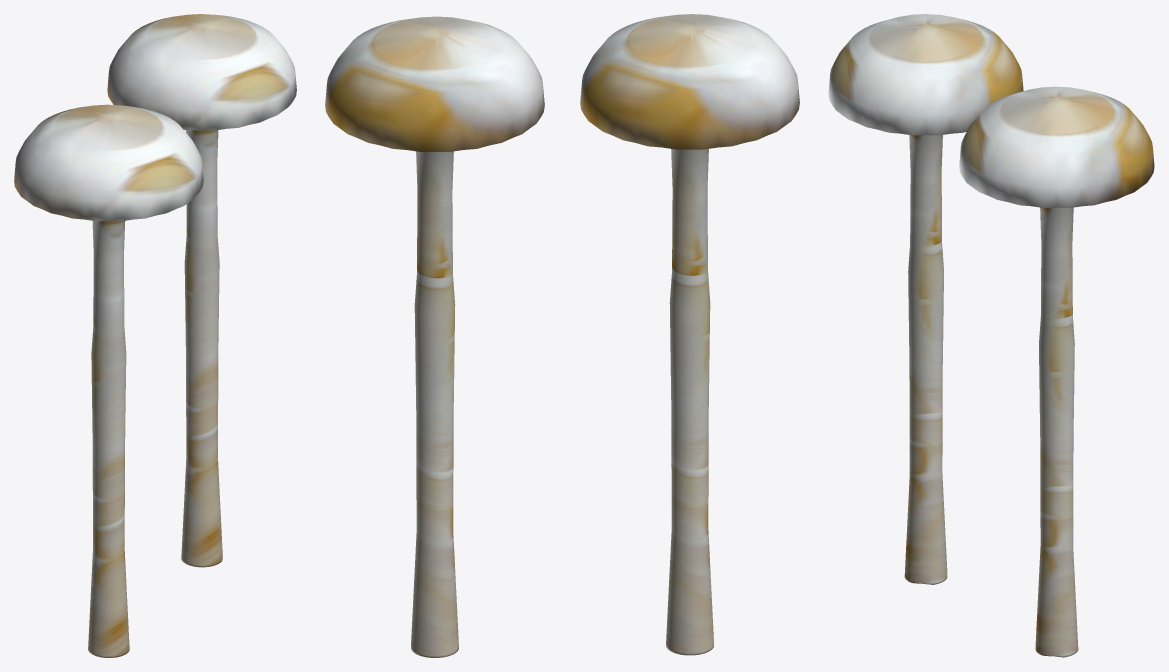
File: enokiMushroom.fbx
The picture shows the model from 3 angles, left to right: view 1: azimuth 30°, elevation 25°; view 2: azimuth 150°, elevation 25°; view 3: azimuth 270°, elevation 25°; orthographic projection. The views are drawn at different scales.
Parts seen in each view (by area): view 1: Poly.001, Poly; view 2: Poly.001, Poly; view 3: Poly, Poly.001.
Part boxes in pixels (x1,y1,x2,y2): Poly.001: (14, 104, 203, 657); Poly: (107, 14, 296, 567); Poly.001: (580, 14, 799, 655); Poly: (325, 16, 544, 657); Poly: (959, 86, 1154, 657); Poly.001: (828, 14, 1023, 584).
Size of the model in its own units: 356 by 570 by 304.
